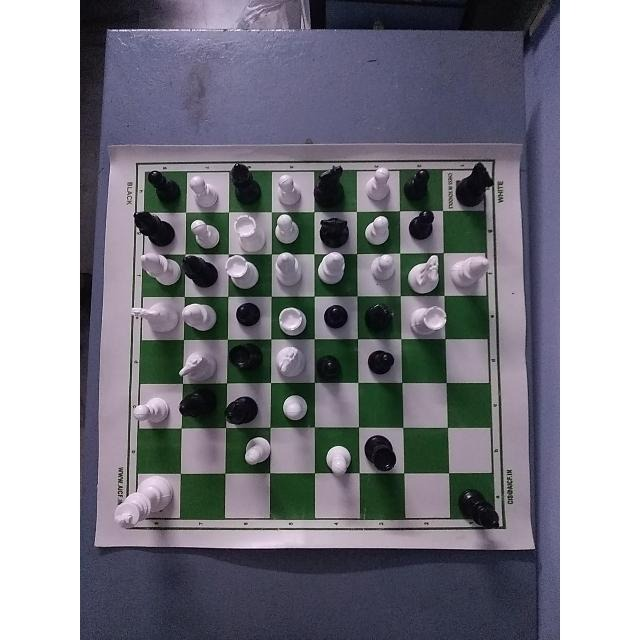black-bishop: (128, 202, 180, 246), (453, 488, 502, 534), (223, 157, 264, 205), (178, 248, 221, 289), (176, 384, 220, 424), (361, 299, 403, 339), (222, 389, 262, 429)
black-knight: (450, 157, 494, 209), (312, 156, 354, 208), (317, 211, 358, 249)
black-pawn: (230, 299, 274, 342), (357, 342, 403, 381), (140, 162, 180, 206), (310, 350, 356, 386), (407, 203, 439, 249), (319, 302, 357, 339), (405, 161, 436, 205)
black-rook: (361, 435, 405, 477), (219, 345, 268, 381)
white-bishop: (446, 250, 498, 294), (137, 250, 185, 292), (266, 254, 310, 296), (316, 248, 352, 291), (174, 303, 222, 334)
white-king: (112, 474, 174, 536)
white-knight: (123, 300, 177, 340), (270, 344, 315, 387), (174, 346, 218, 386), (407, 251, 445, 293)
white-pawn: (128, 392, 178, 426), (318, 443, 358, 479), (187, 172, 223, 212), (186, 214, 227, 249), (362, 162, 394, 206), (270, 209, 307, 243), (281, 394, 316, 426), (364, 209, 392, 249), (276, 170, 304, 210), (242, 432, 272, 468), (369, 252, 397, 287)
white-rook: (277, 300, 318, 339), (406, 302, 449, 338), (222, 256, 261, 292), (234, 212, 266, 251)
